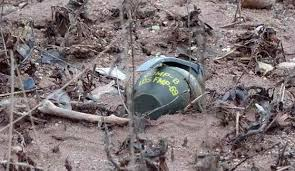e1: (133, 56, 206, 117)
